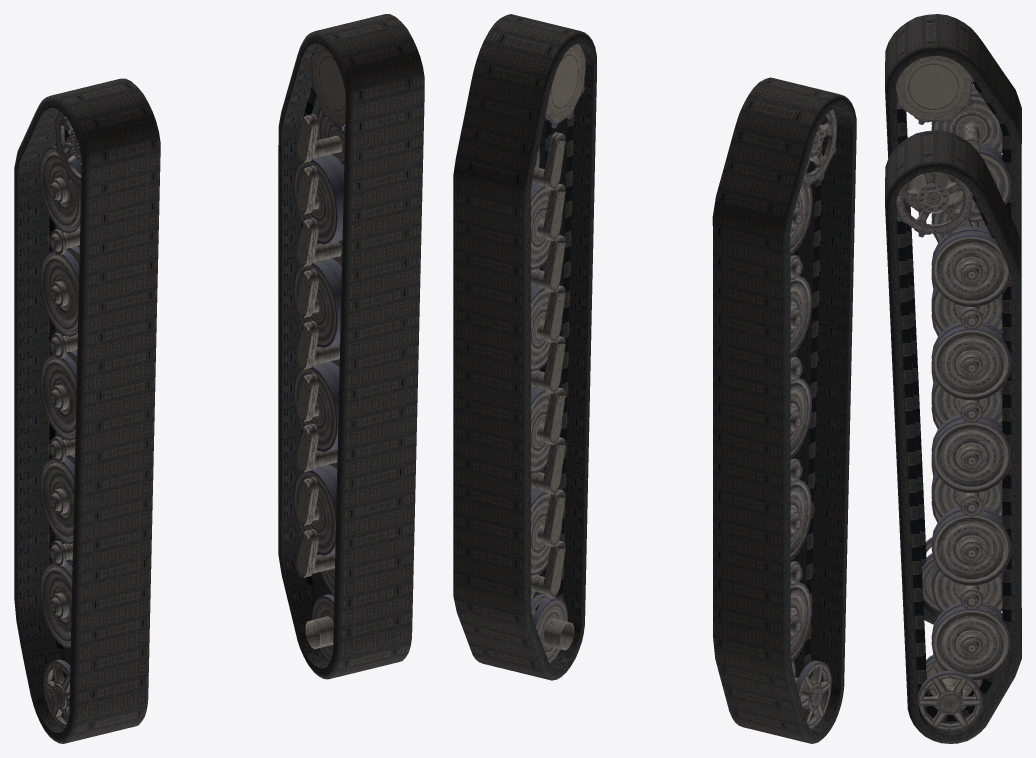
The model's file is Chassis.glb.
3 renders of one model, left to right at view 1: azimuth 30°, elevation 25°; view 2: azimuth 150°, elevation 25°; view 3: azimuth 270°, elevation 25°, orthographic. The views are drawn at different scales.
Parts seen in each view (by area): view 1: set_1_group_0, set_0_group_0, set_3_group_0, set_2_group_0; view 2: set_1_group_0, set_0_group_0, set_3_group_0, set_2_group_0; view 3: set_3_group_0, set_0_group_0, set_1_group_0, set_2_group_0.
Part boxes in pixels (bbox=[...]): set_1_group_0: bbox=[14, 78, 160, 743]; set_0_group_0: bbox=[278, 14, 424, 679]; set_3_group_0: bbox=[293, 43, 345, 662]; set_2_group_0: bbox=[39, 111, 81, 729]; set_1_group_0: bbox=[712, 77, 856, 743]; set_0_group_0: bbox=[453, 14, 596, 680]; set_3_group_0: bbox=[531, 44, 585, 663]; set_2_group_0: bbox=[790, 109, 836, 729]; set_3_group_0: bbox=[896, 172, 1011, 730]; set_0_group_0: bbox=[885, 130, 1021, 743]; set_1_group_0: bbox=[885, 14, 1021, 624]; set_2_group_0: bbox=[896, 56, 1010, 611].
Bounding box in the file's own units: 3.6 × 6.55 × 1.39.
4 materials, 4 textured.
